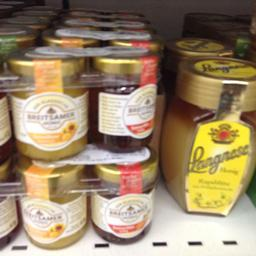honey: (162, 55, 255, 217), (6, 42, 90, 159), (90, 151, 161, 248), (13, 160, 88, 250), (94, 50, 161, 148)
